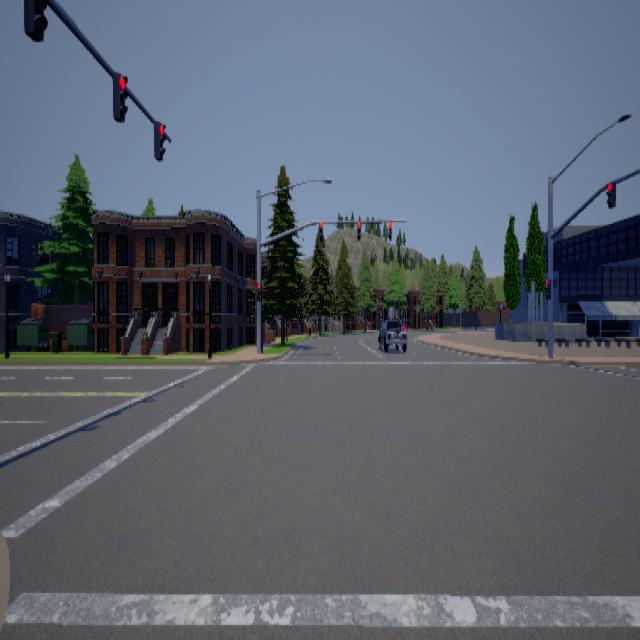red_light: (114, 71, 129, 121), (155, 120, 167, 160), (607, 180, 617, 207), (546, 278, 552, 298), (320, 219, 324, 239), (358, 220, 362, 240), (258, 282, 262, 300), (390, 219, 392, 239)
traffic_light: (25, 0, 49, 40)
vehicle: (379, 317, 409, 352)
